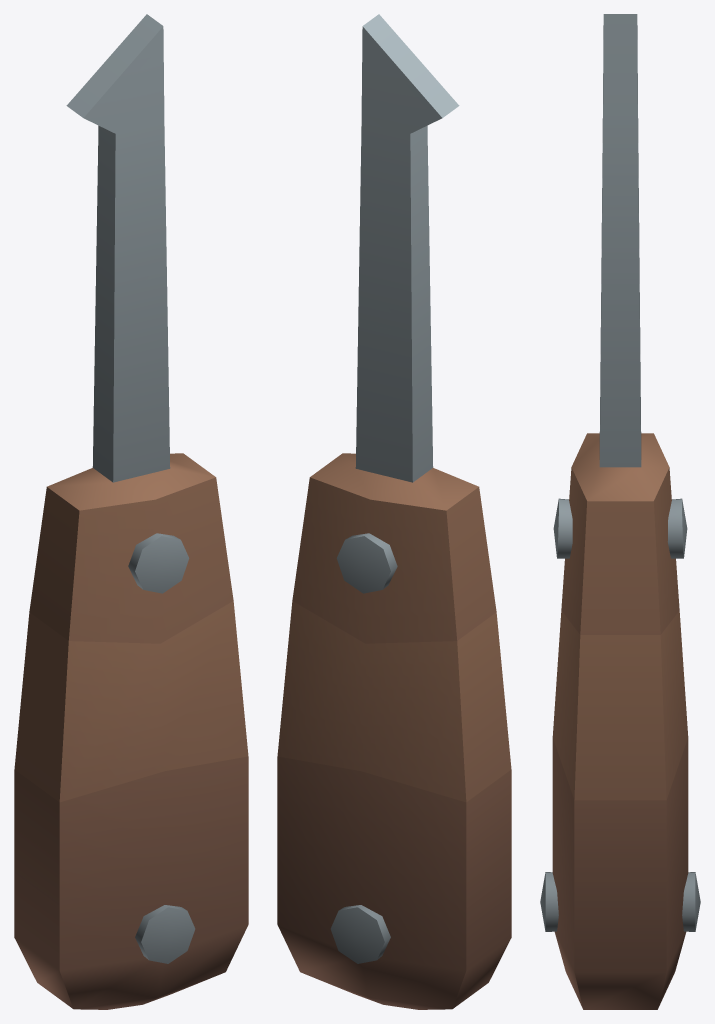
The model's file is lockpick_B.obj.
3 renders of one model, left to right at view 1: azimuth 30°, elevation 25°; view 2: azimuth 150°, elevation 25°; view 3: azimuth 270°, elevation 25°, orthographic.
Visible parts, largest first — view 1: lockpick_B; view 2: lockpick_B; view 3: lockpick_B.
Part boxes in pixels (x1,y1,x2,y2): lockpick_B: [14, 14, 248, 1009]; lockpick_B: [277, 14, 511, 1009]; lockpick_B: [540, 14, 700, 1009].
Bounding box in the file's own units: 0.1513 × 0.746 × 0.1093.
1 material, 1 textured.
